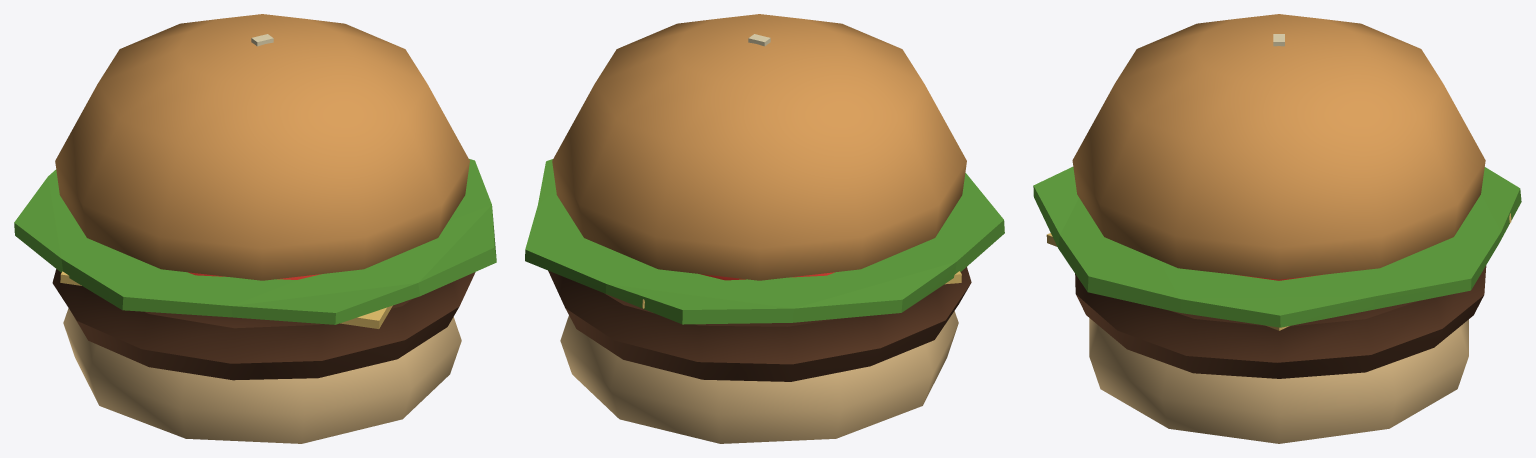
File: biteBurger.glb
3 renders of one model, left to right at view 1: azimuth 30°, elevation 25°; view 2: azimuth 150°, elevation 25°; view 3: azimuth 270°, elevation 25°, orthographic.
Parts seen in each view (by area): view 1: biteBurger; view 2: biteBurger; view 3: biteBurger.
Part boxes in pixels (x1,y1,x2,y2): biteBurger: (14,14,496,443); biteBurger: (525,14,1004,443); biteBurger: (1033,14,1521,443).
Size of the model in its own units: 0.1017 by 0.0767 by 0.104.
